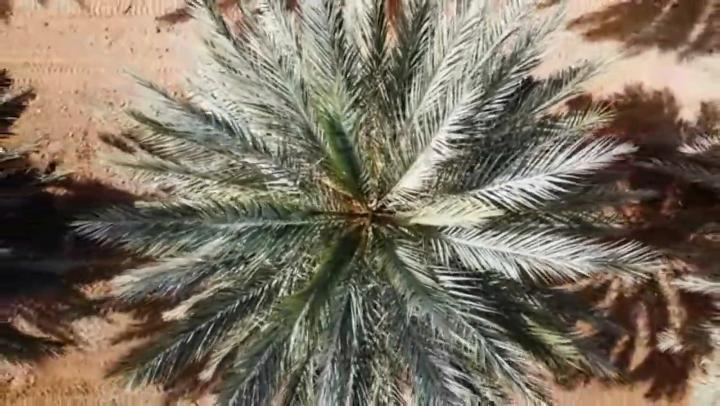Date-Palm-Crown: (229, 82, 494, 364)
